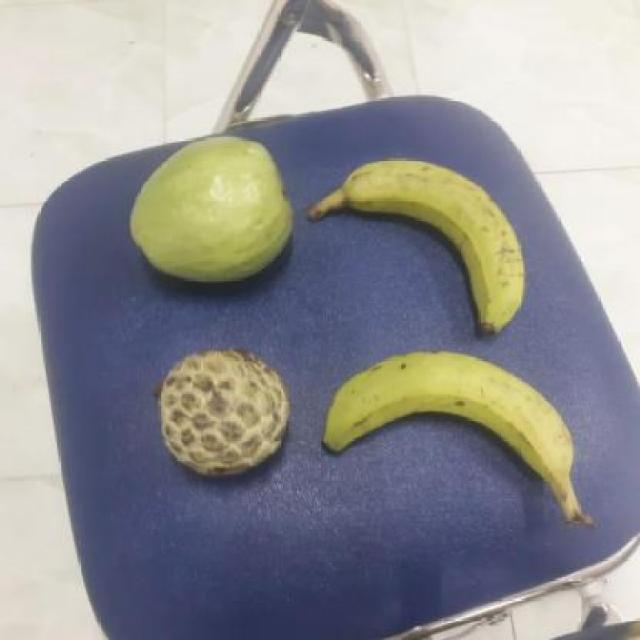banana: (310, 354, 573, 508), (299, 161, 523, 336)
guava: (127, 130, 295, 282)
sugar apple: (144, 349, 288, 477)
